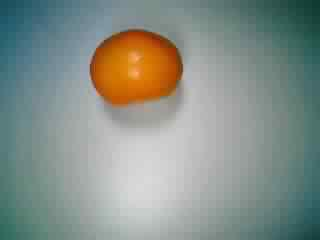orange: (90, 25, 186, 107)
